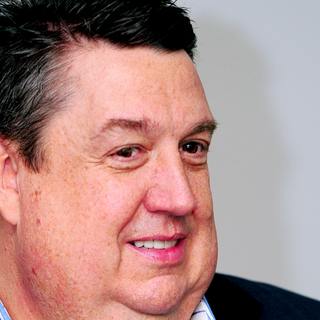eye: (102, 140, 149, 165), (174, 133, 214, 161)
